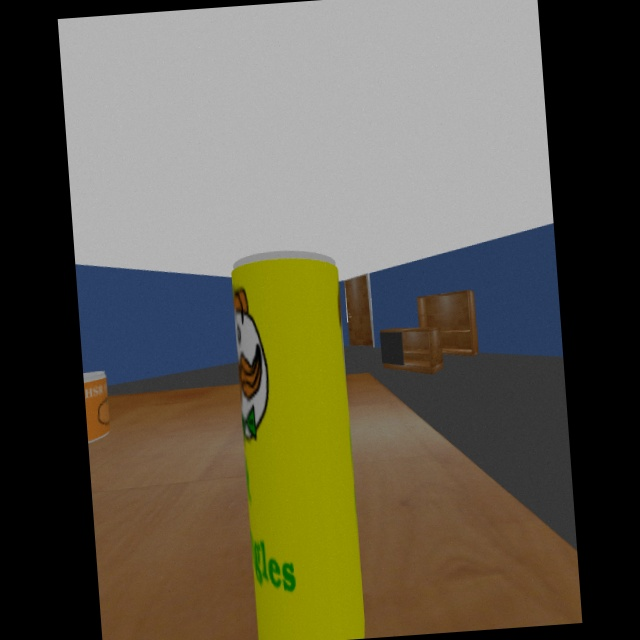chipsdose_gelb: (232, 251, 366, 640)
